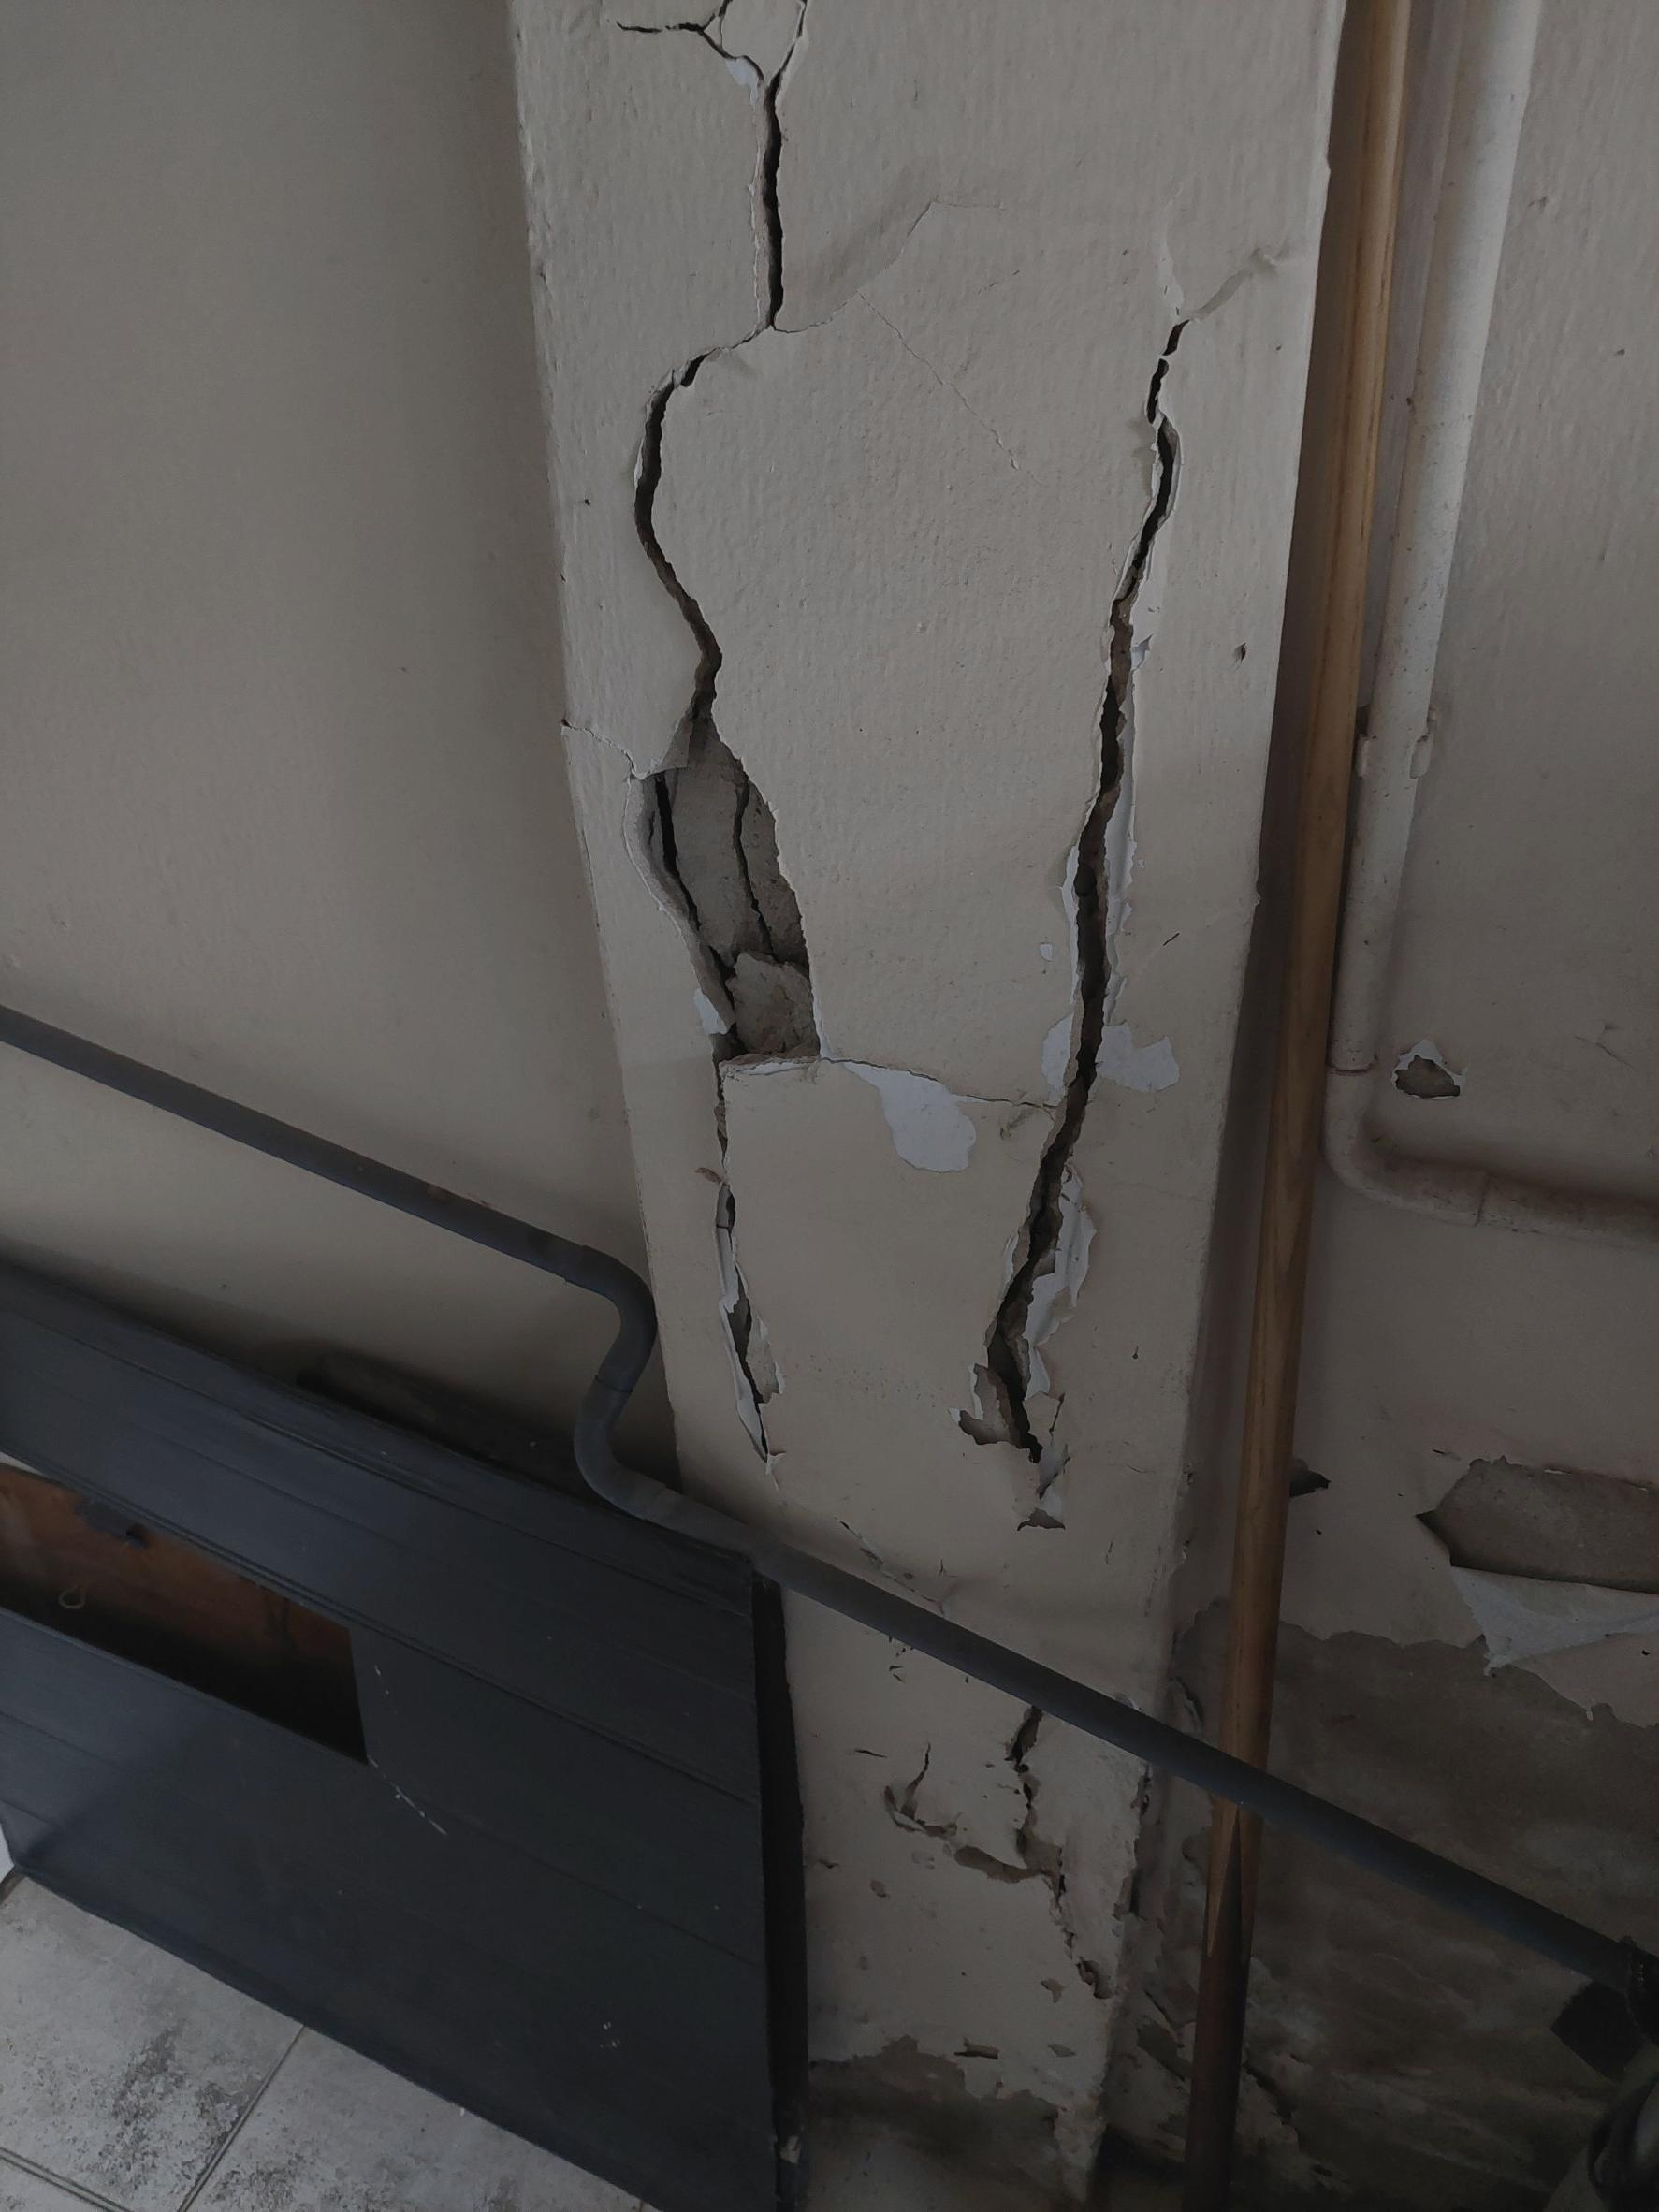High: (570, 7, 1253, 2067)
